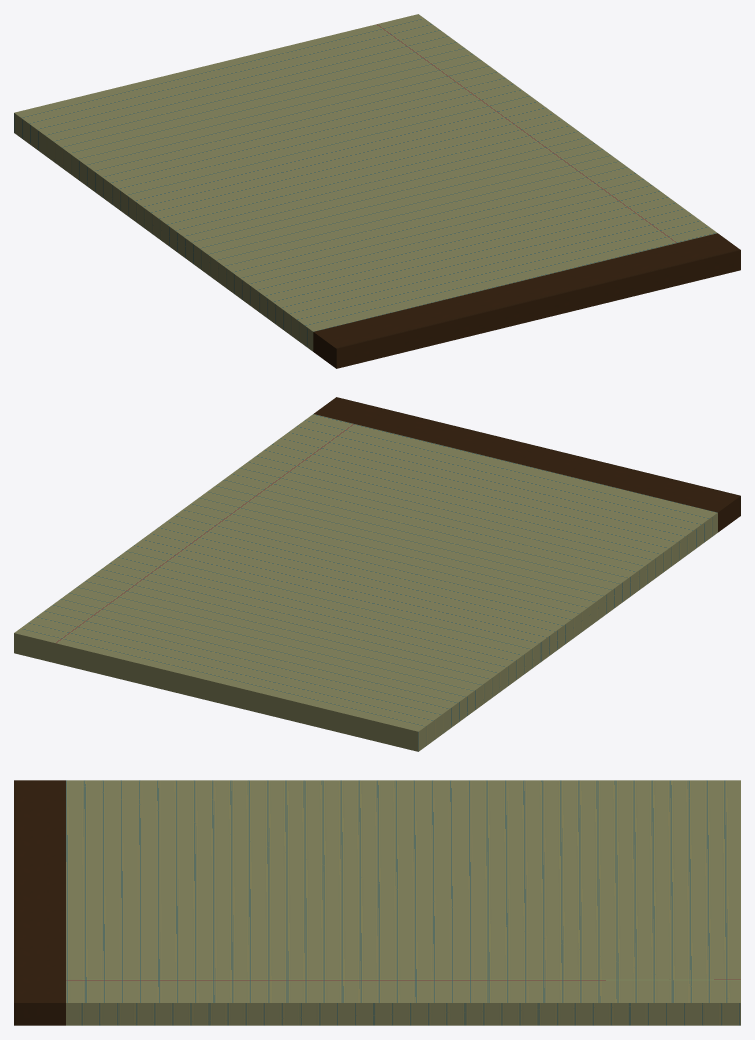
Rendered from paper_pad.glb.
3 renders of one model, top to bottom at view 1: azimuth 30°, elevation 25°; view 2: azimuth 150°, elevation 25°; view 3: azimuth 270°, elevation 25°, orthographic. The views are drawn at different scales.
Visible parts, largest first — view 1: Plane; view 2: Plane; view 3: Plane.
Boxes of the visible parts, bbox=[...] form: Plane: bbox=[14, 14, 740, 368]; Plane: bbox=[14, 397, 740, 751]; Plane: bbox=[14, 780, 740, 1025].
Size of the model in its own units: 0.21 by 0.01 by 0.29.
Materials: 1 (1 with a texture image).
